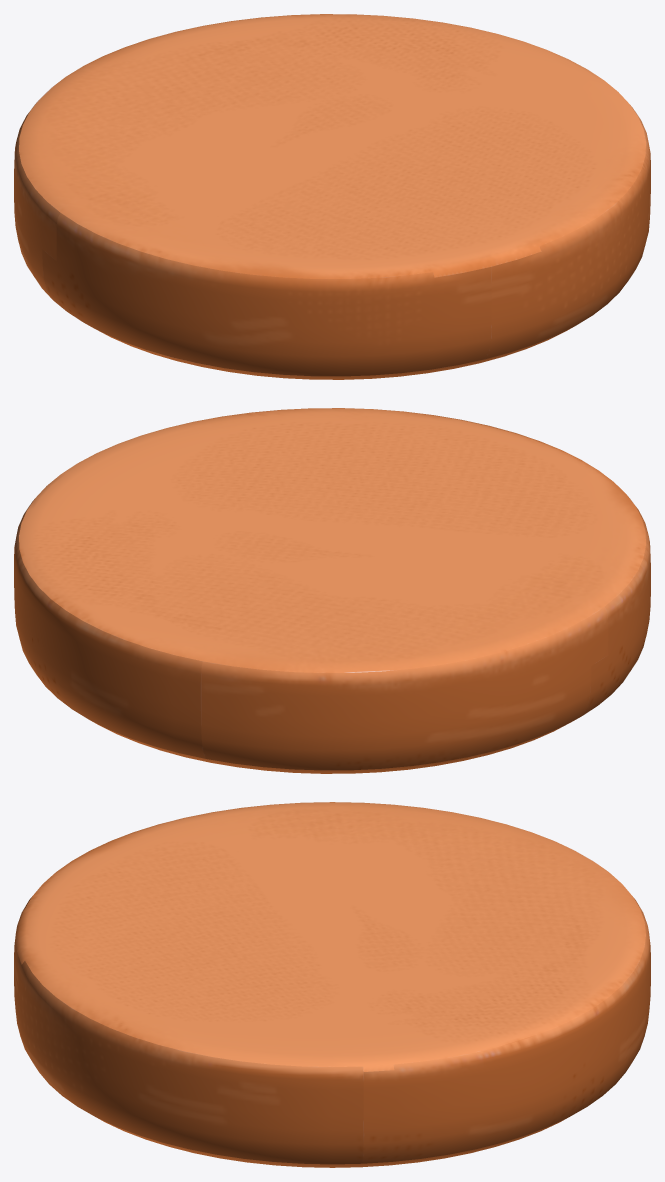
File: Bottom_Bun.glb
3 renders of one model, top to bottom at view 1: azimuth 30°, elevation 25°; view 2: azimuth 150°, elevation 25°; view 3: azimuth 270°, elevation 25°, orthographic.
Parts seen in each view (by area): view 1: Bottom_Bun; view 2: Bottom_Bun; view 3: Bottom_Bun.
Boxes of the visible parts, bbox=[...] form: Bottom_Bun: bbox=[14, 14, 650, 379]; Bottom_Bun: bbox=[14, 408, 650, 773]; Bottom_Bun: bbox=[14, 802, 650, 1167].
Size of the model in its own units: 5.78 by 1.25 by 5.78.
1 material, 1 textured.
